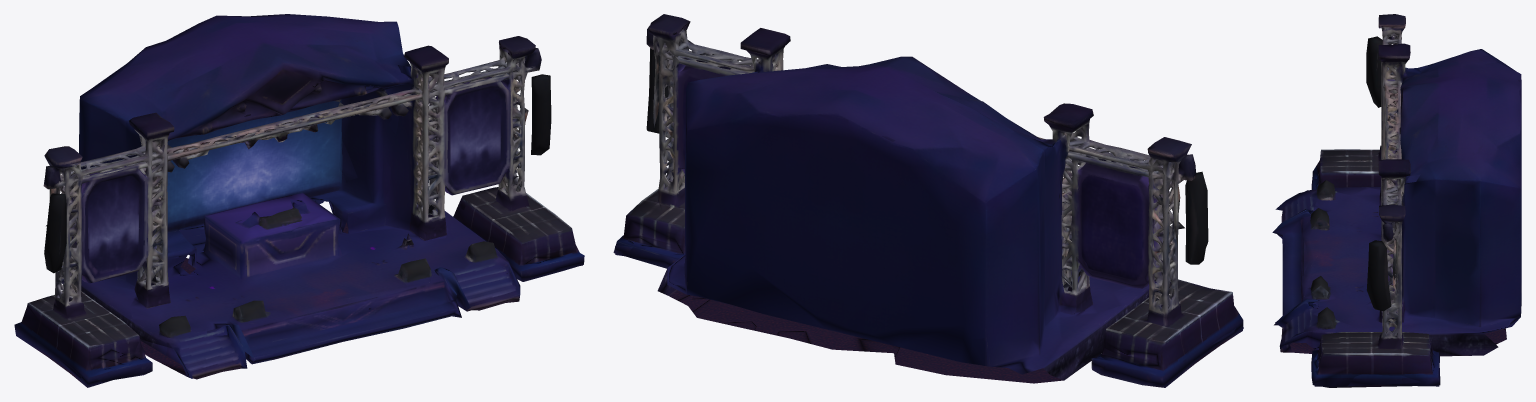
The model's file is concert.glb.
3 renders of one model, left to right at view 1: azimuth 30°, elevation 25°; view 2: azimuth 150°, elevation 25°; view 3: azimuth 270°, elevation 25°, orthographic. The views are drawn at different scales.
Visible parts, largest first — view 1: world; view 2: world; view 3: world.
Part boxes in pixels (box(x1,y1,x2,y2)): world: box(14, 14, 584, 387); world: box(613, 14, 1243, 387); world: box(1272, 14, 1521, 387).
Bounding box in the file's own units: 0.9978 × 0.4361 × 0.4939.
Materials: 1 (1 with a texture image).
